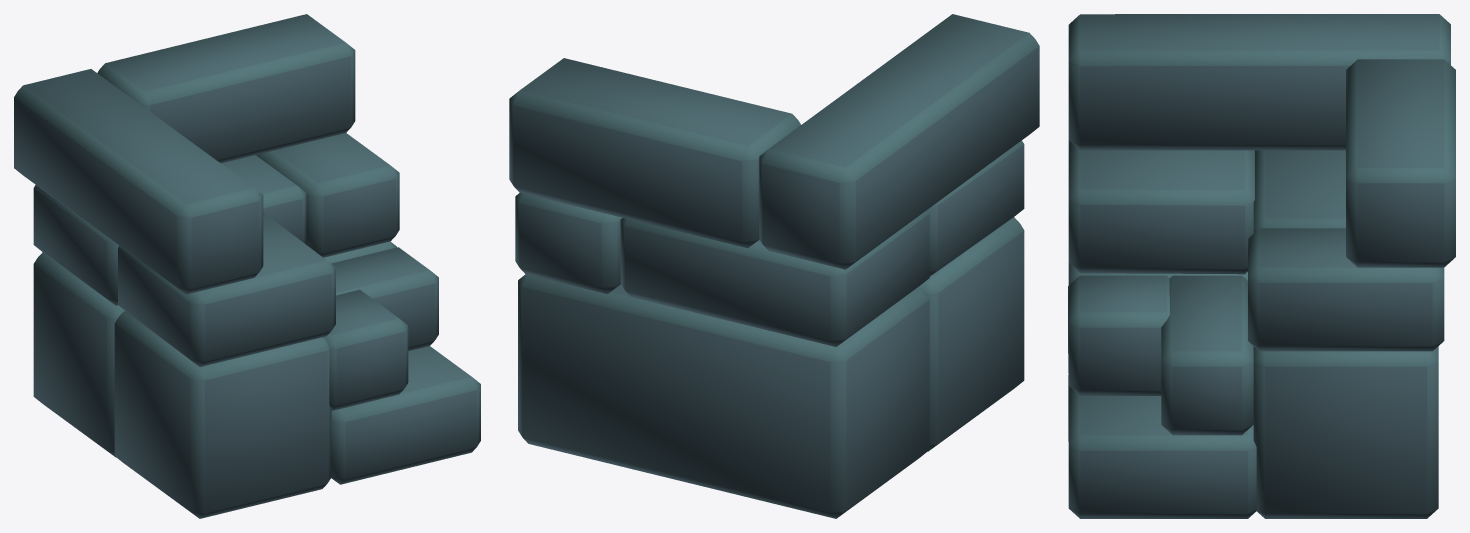
File: stair_corner_concave_hue_2.fbx
3 views of the same model, side by side, from view 1: azimuth 30°, elevation 25°; view 2: azimuth 150°, elevation 25°; view 3: azimuth 270°, elevation 25° (orthographic). The views are drawn at different scales.
Parts seen in each view (by area): view 1: stair_corner_concave_hue_2; view 2: stair_corner_concave_hue_2; view 3: stair_corner_concave_hue_2.
Boxes of the visible parts, x1,y1,x2,y2 form: stair_corner_concave_hue_2: [14, 14, 480, 518]; stair_corner_concave_hue_2: [509, 14, 1039, 518]; stair_corner_concave_hue_2: [1068, 14, 1455, 518].
Size of the model in its own units: 105 by 105 by 105.
